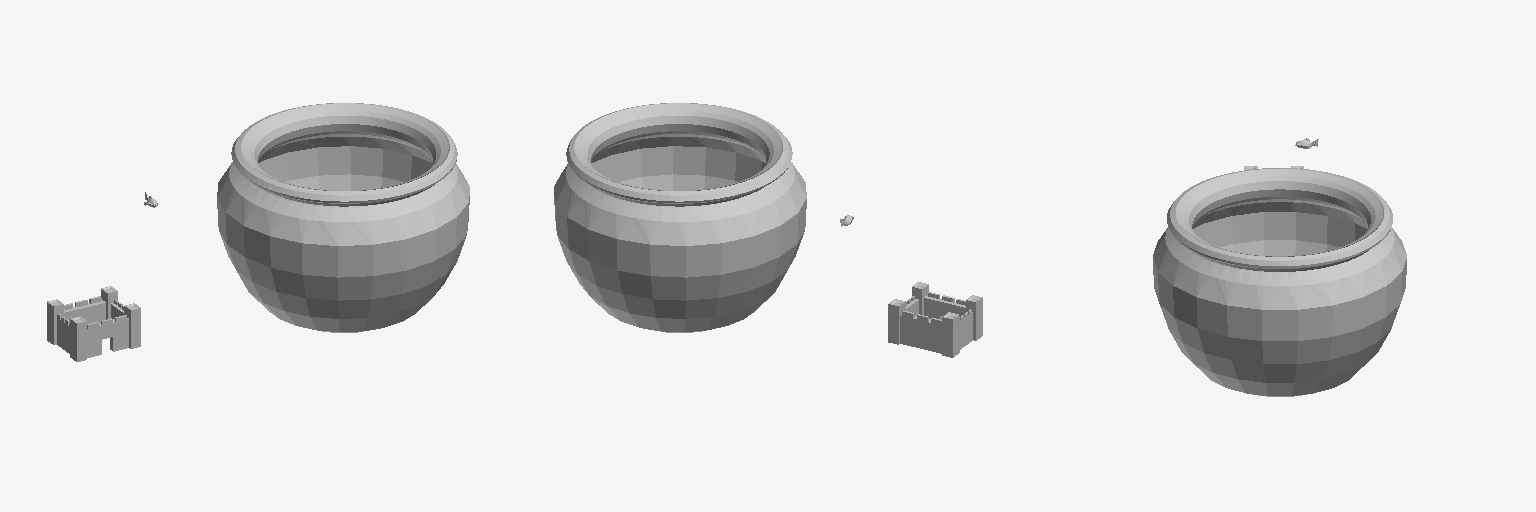
Rendered from FishCastleMap.obj.
3 renders of one model, left to right at view 1: azimuth 30°, elevation 25°; view 2: azimuth 150°, elevation 25°; view 3: azimuth 270°, elevation 25°, orthographic.
Parts seen in each view (by area): view 1: Fishbowl, textureEditorIsolateSelectSet Castle; view 2: Fishbowl, textureEditorIsolateSelectSet Castle; view 3: Fishbowl.
Boxes of the visible parts, x1,y1,x2,y2 form: Fishbowl: [217, 103, 469, 332]; textureEditorIsolateSelectSet Castle: [47, 286, 140, 361]; Fishbowl: [554, 103, 806, 332]; textureEditorIsolateSelectSet Castle: [888, 282, 982, 357]; Fishbowl: [1153, 168, 1406, 396].
Size of the model in its own units: 21.43 by 9.03 by 12.02.